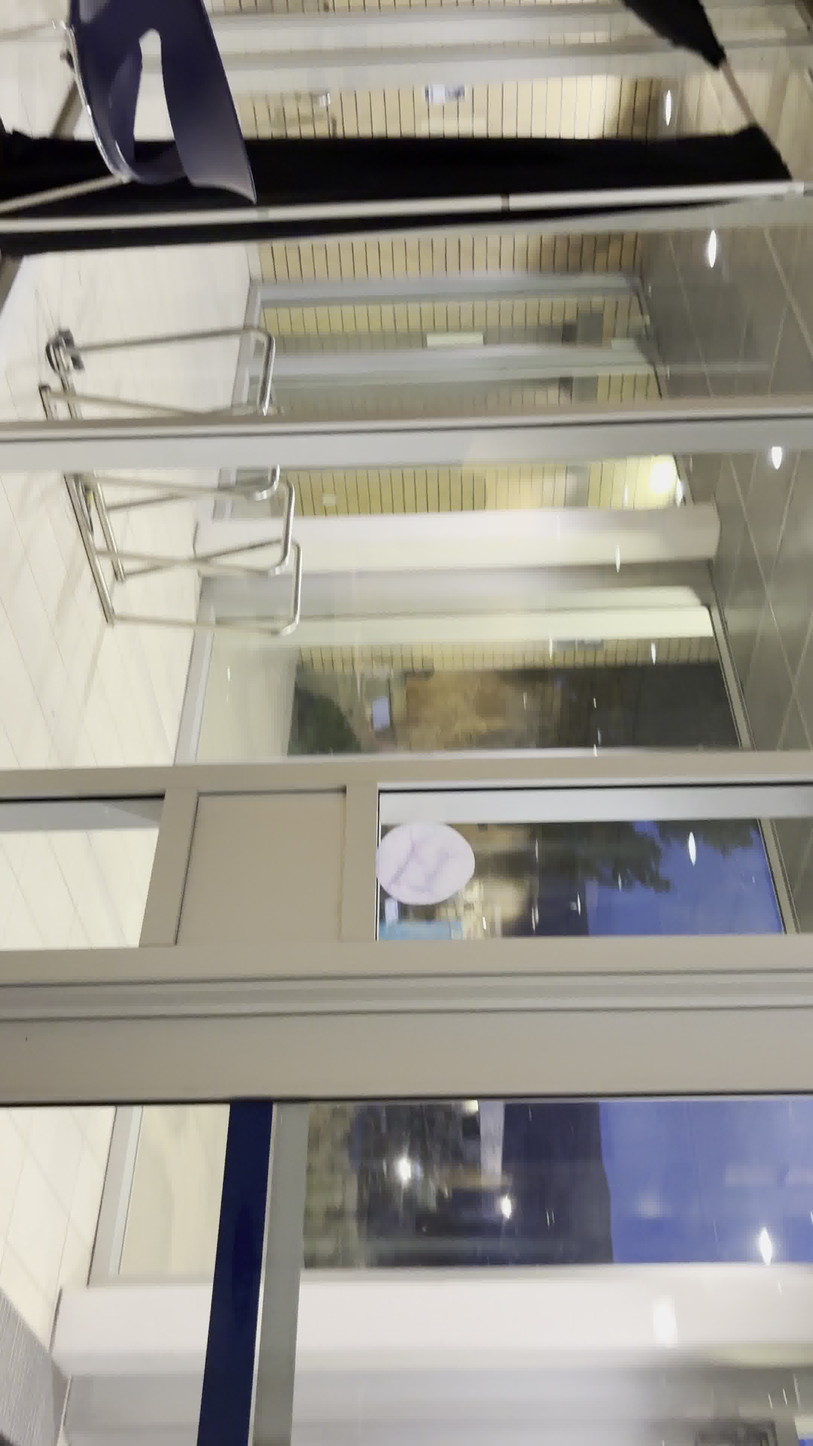Target: (375, 817, 477, 907)
